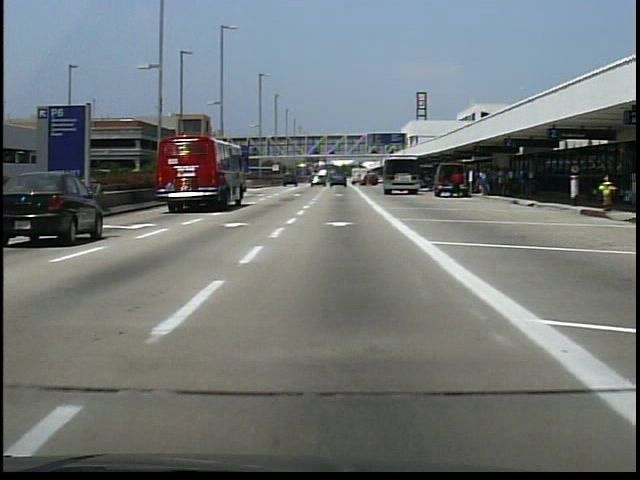person: (450, 168, 465, 204)
